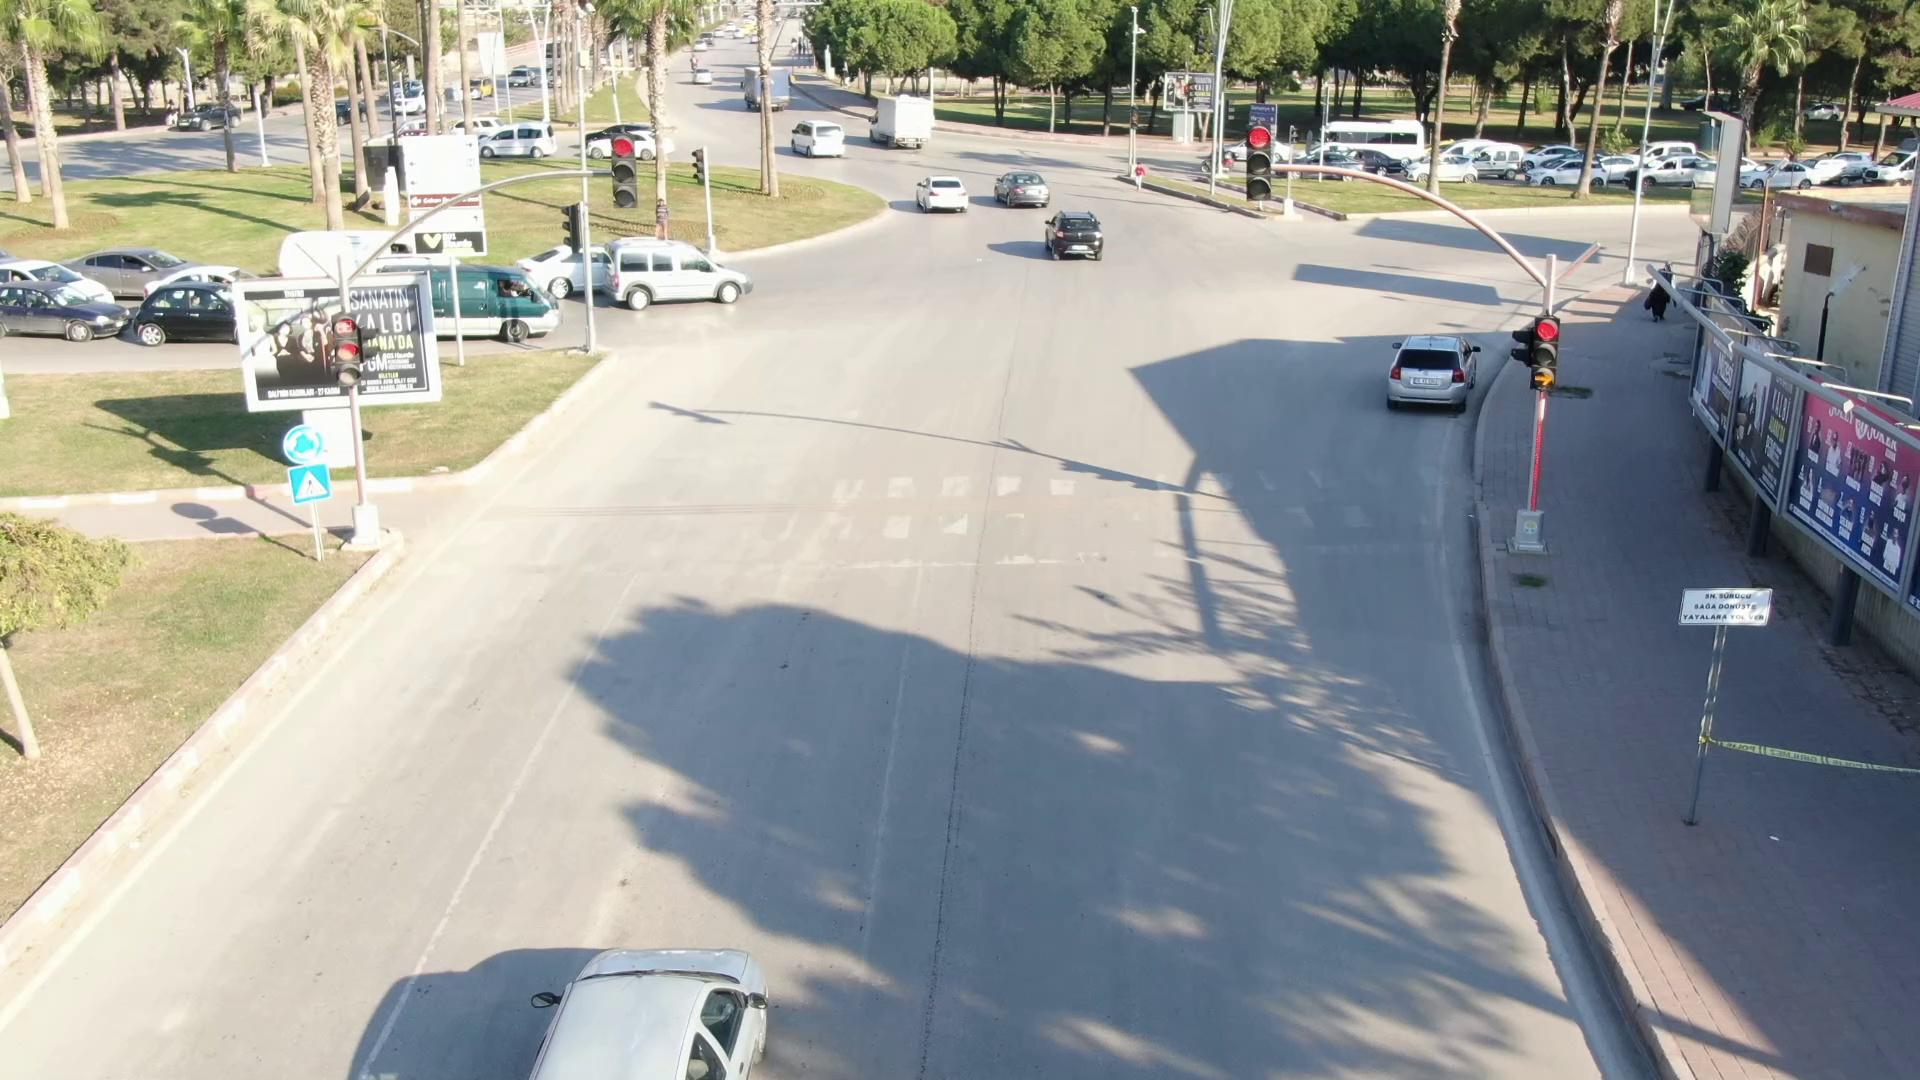car: (592, 229, 771, 326), (1358, 316, 1489, 418), (1034, 193, 1131, 282), (855, 90, 942, 149), (781, 112, 866, 167), (905, 173, 982, 227), (985, 164, 1062, 215)
